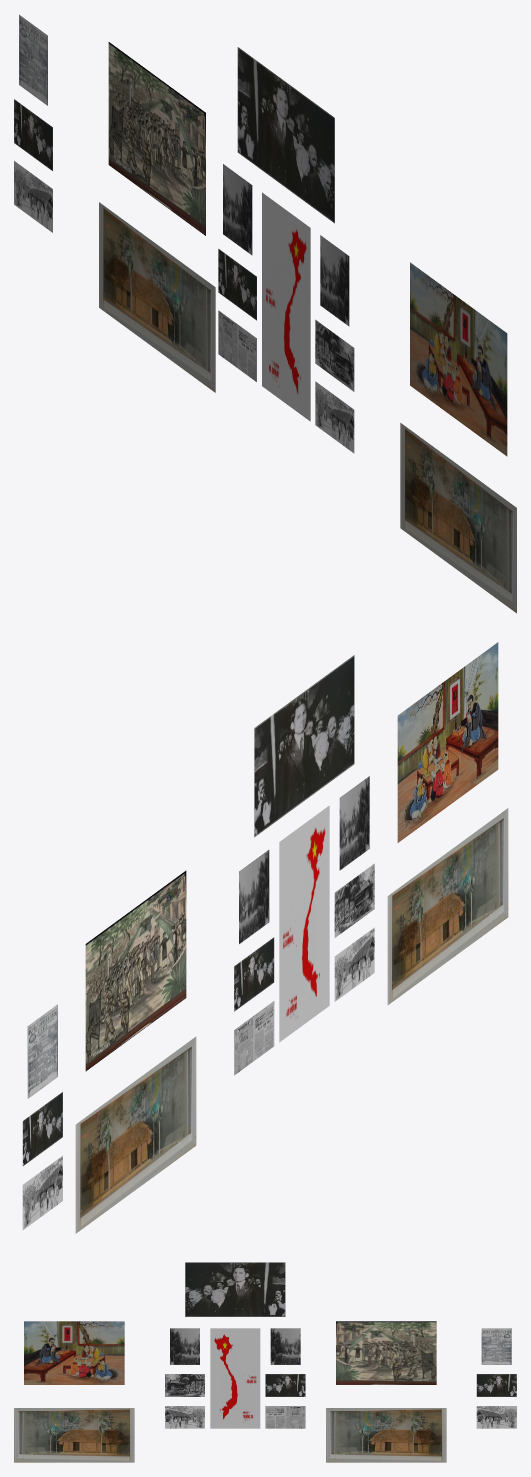
The model's file is PhongThuNhatDA.glb.
3 views of the same model, one above another, from view 1: azimuth 30°, elevation 25°; view 2: azimuth 150°, elevation 25°; view 3: azimuth 270°, elevation 25° (orthographic). The views are drawn at different scales.
Parts seen in each view (by area): view 1: Plane.001, Plane.007, Plane.004, Plane.005, Plane.003, Plane.006, Plane.025, Plane.016, Plane.026, Plane.017, Plane.022, Plane.002 (+3 smaller); view 2: Plane.001, Plane.007, Plane.004, Plane.005, Plane.003, Plane.006, Plane.016, Plane.026, Plane.025, Plane.023, Plane.002, Plane.017 (+3 smaller); view 3: Plane.001, Plane.007, Plane.004, Plane.005, Plane.003, Plane.006, Plane.026, Plane.025, Plane.016, Plane.028, Plane.023, Plane.002 (+3 smaller).
Boxes of the visible parts, x1=… form: Plane.001: x1=99, y1=202, x2=215, y2=392; Plane.007: x1=400, y1=423, x2=516, y2=613; Plane.004: x1=410, y1=262, x2=507, y2=456; Plane.005: x1=108, y1=42, x2=205, y2=235; Plane.003: x1=237, y1=47, x2=334, y2=223; Plane.006: x1=262, y1=192, x2=310, y2=421; Plane.025: x1=223, y1=164, x2=252, y2=255; Plane.016: x1=320, y1=235, x2=349, y2=326; Plane.026: x1=19, y1=14, x2=47, y2=105; Plane.017: x1=315, y1=319, x2=354, y2=391; Plane.022: x1=315, y1=381, x2=354, y2=453; Plane.002: x1=218, y1=248, x2=256, y2=320; Plane.001: x1=75, y1=1036, x2=196, y2=1233; Plane.007: x1=387, y1=808, x2=508, y2=1004; Plane.004: x1=397, y1=642, x2=498, y2=842; Plane.005: x1=85, y1=870, x2=186, y2=1071; Plane.003: x1=254, y1=655, x2=354, y2=837; Plane.006: x1=279, y1=805, x2=329, y2=1042; Plane.016: x1=339, y1=776, x2=369, y2=870; Plane.026: x1=27, y1=1004, x2=57, y2=1098; Plane.025: x1=239, y1=850, x2=269, y2=943; Plane.023: x1=22, y1=1092, x2=62, y2=1166; Plane.002: x1=234, y1=937, x2=274, y2=1011; Plane.017: x1=334, y1=863, x2=374, y2=937; Plane.001: x1=326, y1=1408, x2=446, y2=1462; Plane.007: x1=14, y1=1408, x2=134, y2=1462; Plane.004: x1=24, y1=1321, x2=124, y2=1384; Plane.005: x1=336, y1=1321, x2=436, y2=1384; Plane.003: x1=185, y1=1262, x2=285, y2=1316; Plane.006: x1=210, y1=1328, x2=260, y2=1428; Plane.026: x1=481, y1=1328, x2=511, y2=1364; Plane.025: x1=270, y1=1328, x2=300, y2=1364; Plane.016: x1=170, y1=1328, x2=199, y2=1364; Plane.028: x1=476, y1=1406, x2=516, y2=1428; Plane.023: x1=476, y1=1374, x2=516, y2=1396; Plane.002: x1=265, y1=1374, x2=305, y2=1396.
Size of the model in its own units: 0.1 by 2.15 by 5.
15 materials, 15 textured.
